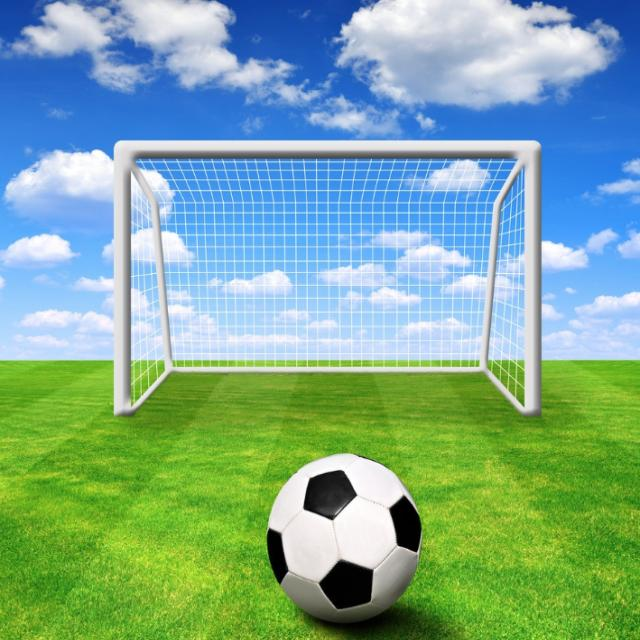football: (262, 427, 446, 631)
